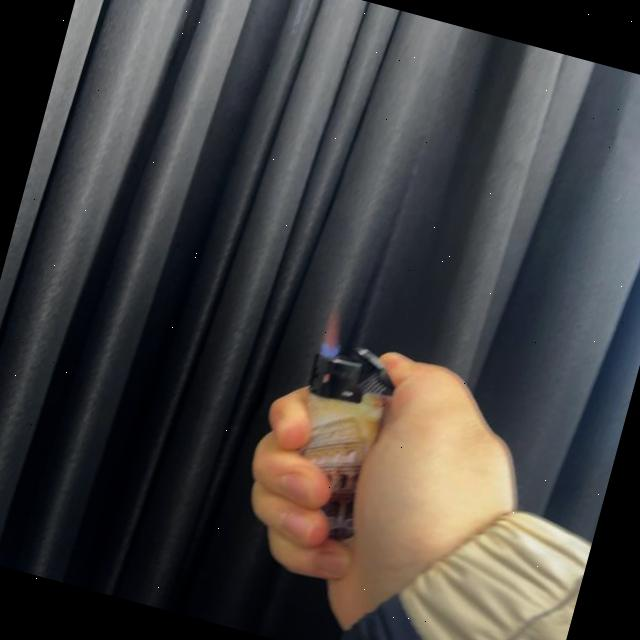fire: (315, 300, 352, 362)
